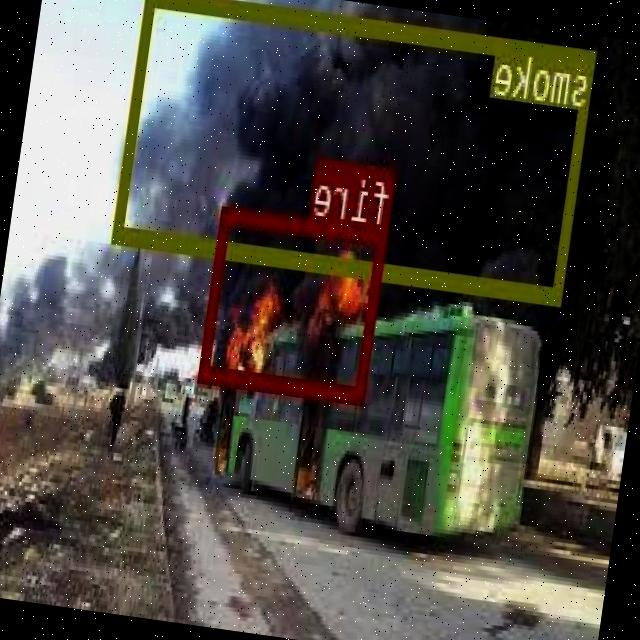fire: (200, 205, 389, 402)
smoke: (115, 0, 599, 301)
